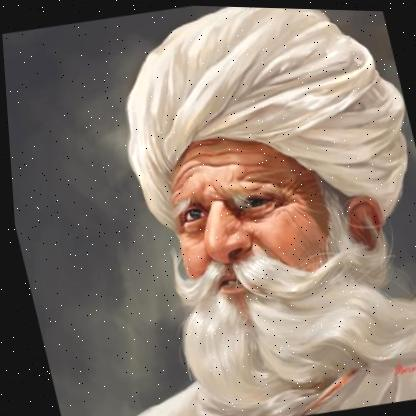person: (6, 0, 416, 416)
